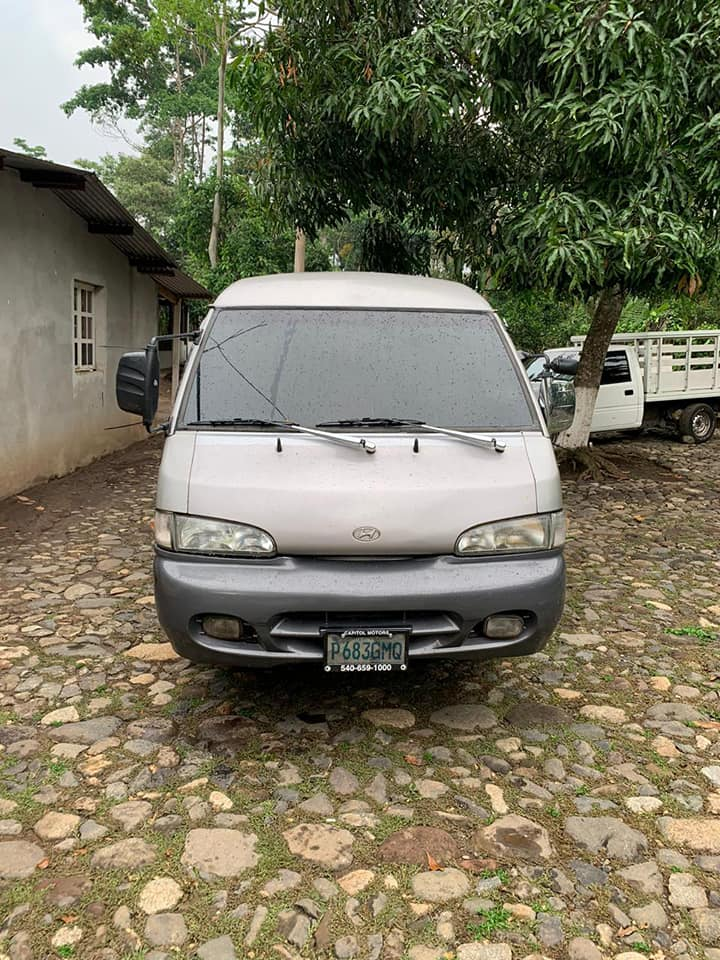bus: (147, 268, 568, 683)
